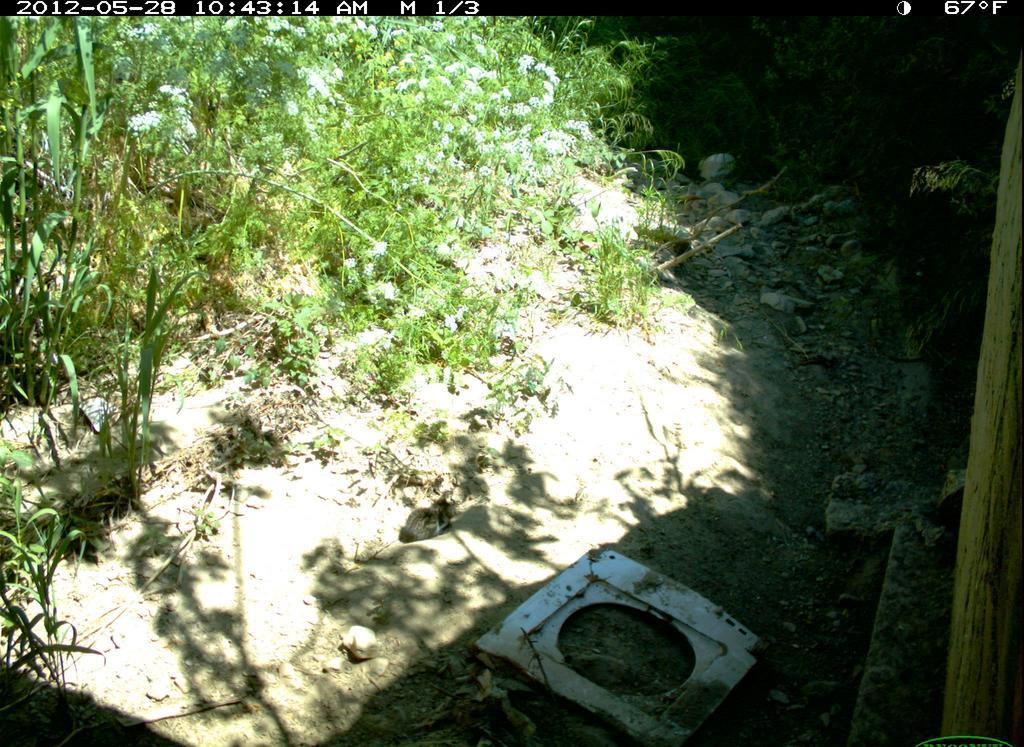cat: (387, 488, 475, 555)
